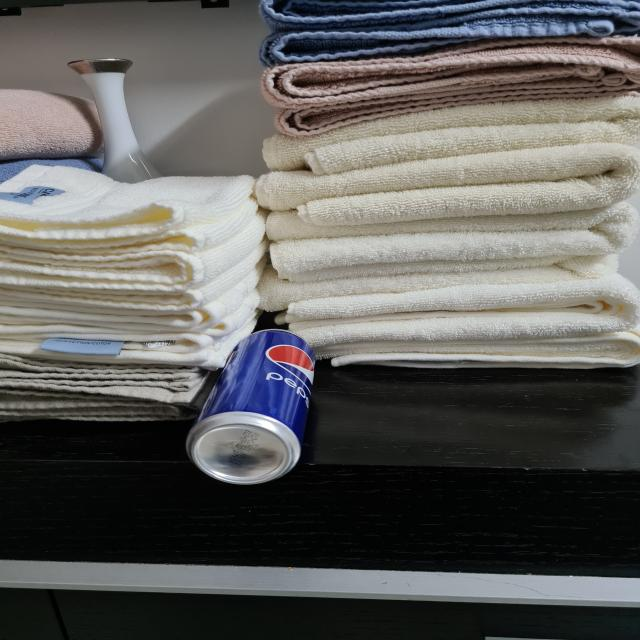non-organic waste: (180, 324, 329, 485)
